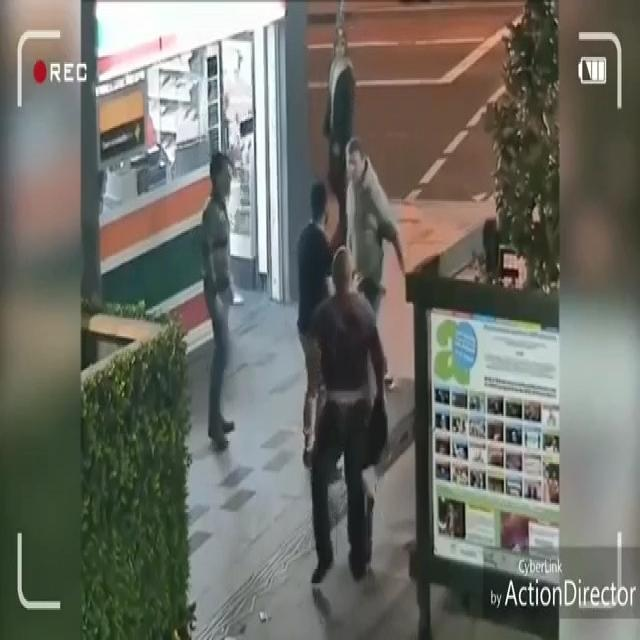fight: (298, 134, 401, 340)
